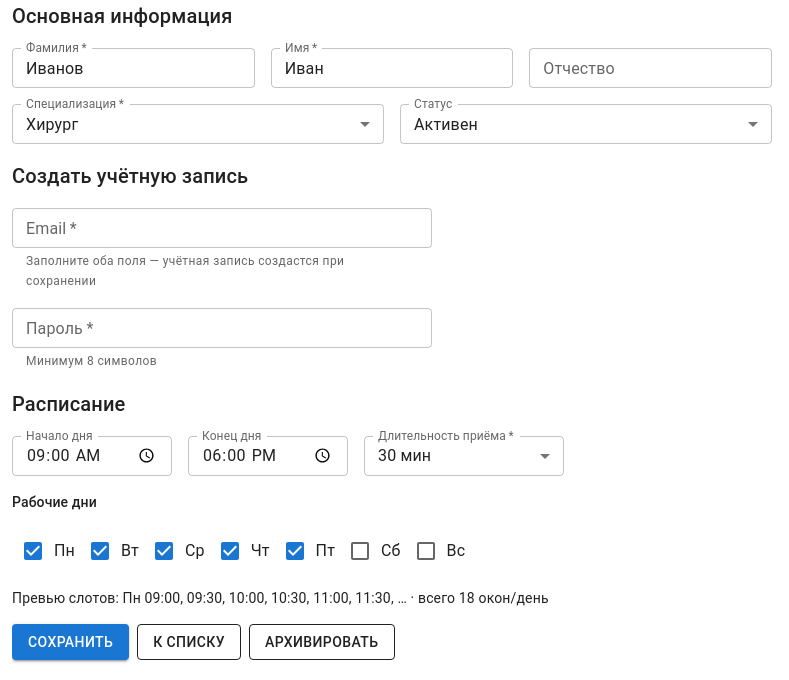
Test case: DoctorForm edit: email учётной записи (3.2) › врач без учётной записи: только email без пароля → ошибка, запросов нет
Type "new@test.mp" into the field labelled "Email *" at [222, 228], box [12, 208, 432, 248]
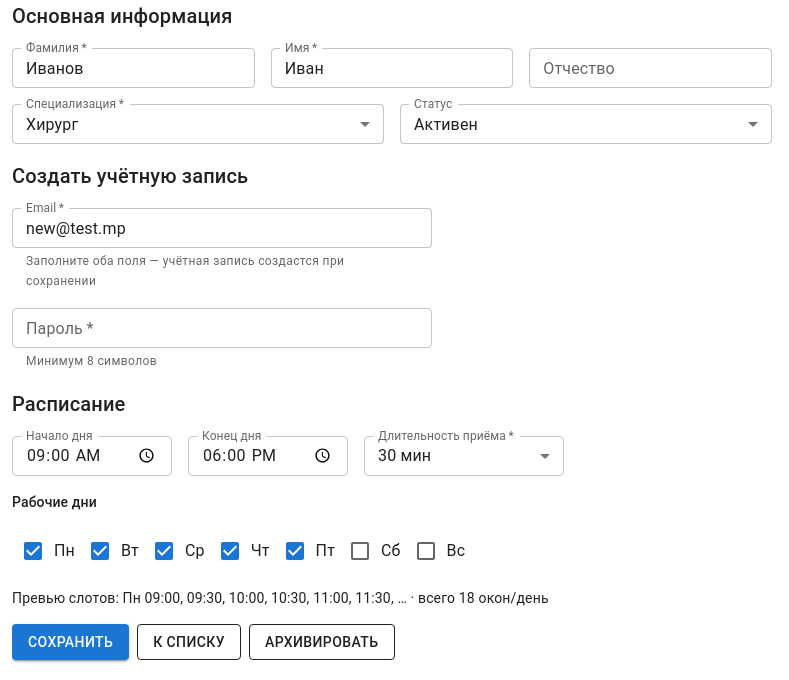
Click the button "Сохранить" at [71, 642], box [12, 624, 129, 660]
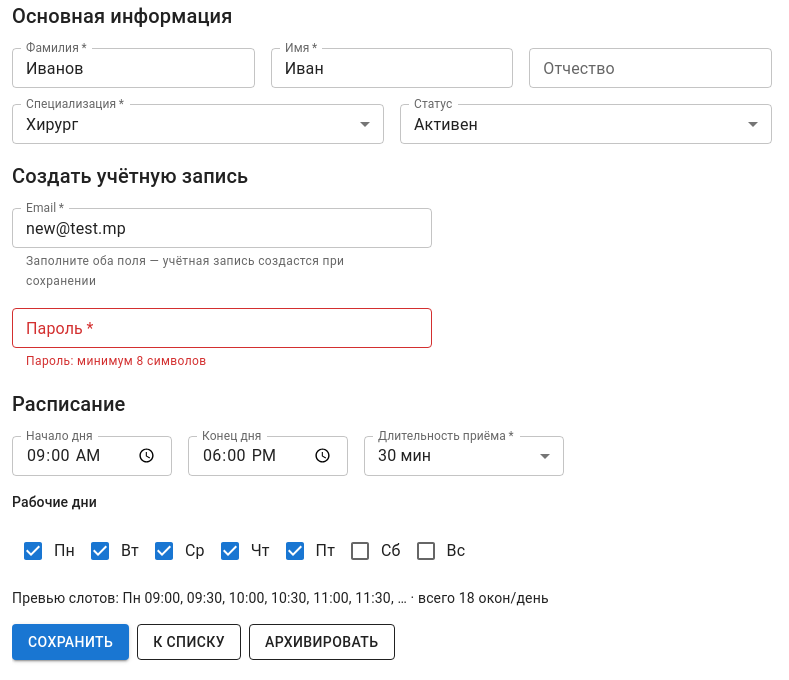
Now the text "Пароль: минимум 8 символов" is shown, box [26, 354, 206, 368]
